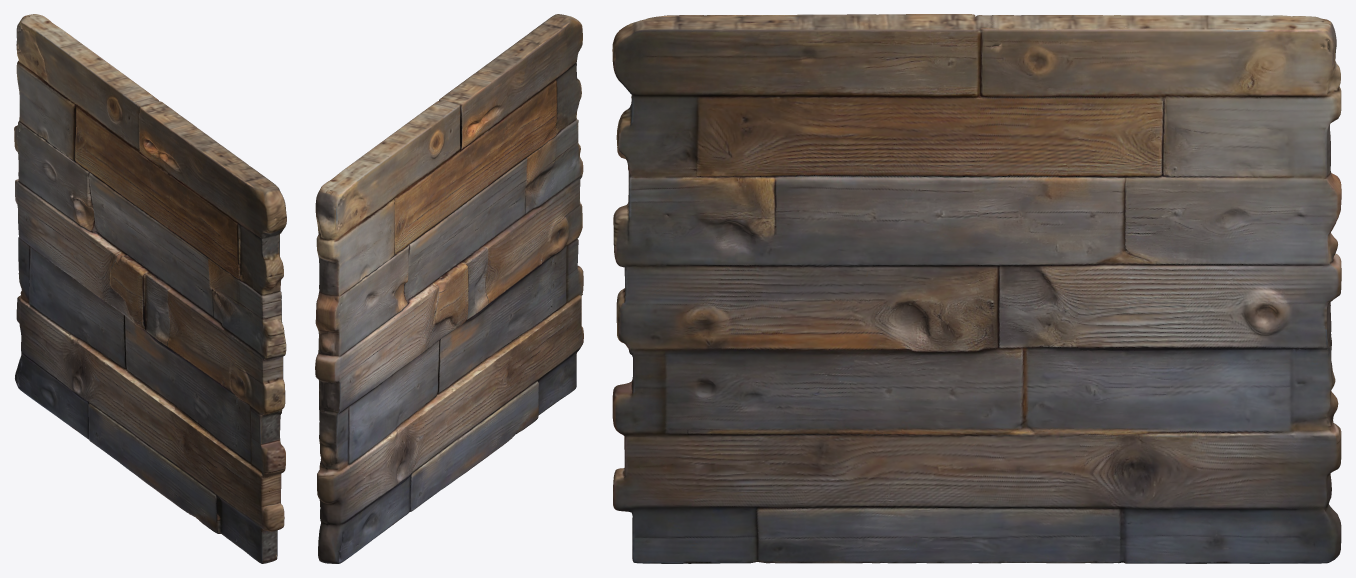
File: Meshy_AI_a_barnwood_wall_and_f_0221052442_texture.glb
The picture shows the model from 3 angles, left to right: view 1: azimuth 30°, elevation 25°; view 2: azimuth 150°, elevation 25°; view 3: azimuth 270°, elevation 25°; orthographic projection. The views are drawn at different scales.
Size of the model in its own units: 0.1224 by 1.63 by 2.
1 material, 1 textured.
